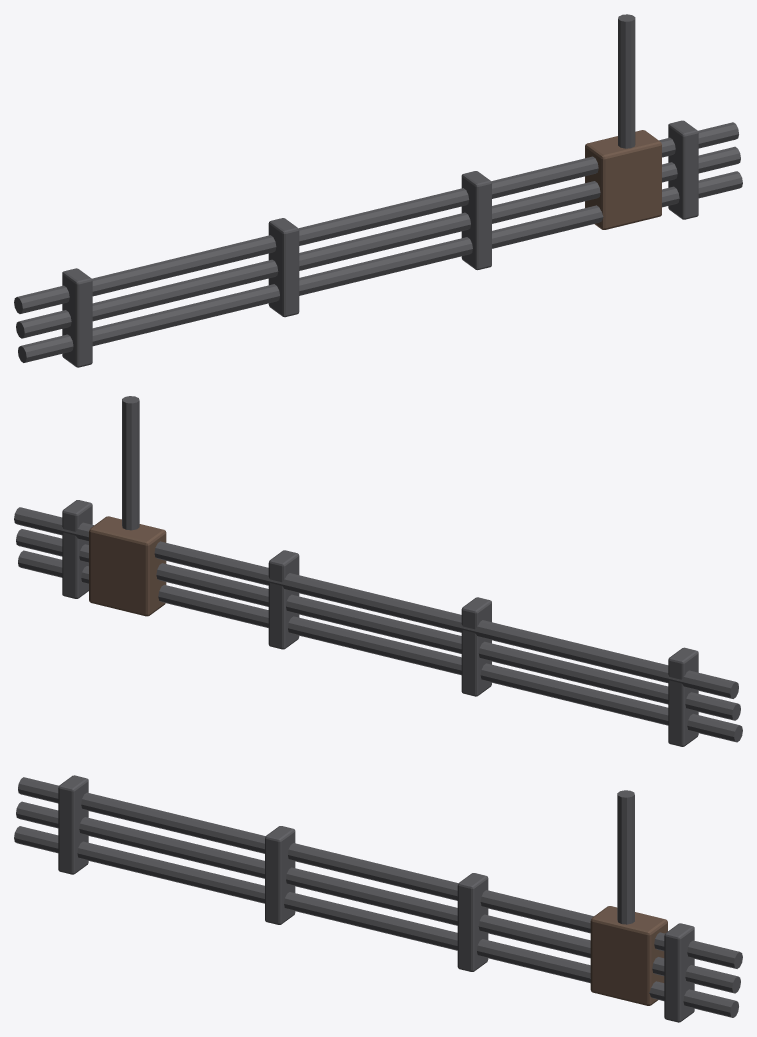
3 views of the same model, one above another, from view 1: azimuth 30°, elevation 25°; view 2: azimuth 150°, elevation 25°; view 3: azimuth 330°, elevation 25° (orthographic).
Visible parts, largest first — view 1: conduitRun; view 2: conduitRun; view 3: conduitRun.
Part boxes in pixels (bbox=[...]): conduitRun: bbox=[14, 14, 742, 367]; conduitRun: bbox=[14, 396, 742, 746]; conduitRun: bbox=[14, 775, 742, 1022].
Bounding box in the file's own units: 2.6 × 0.72 × 0.14.
